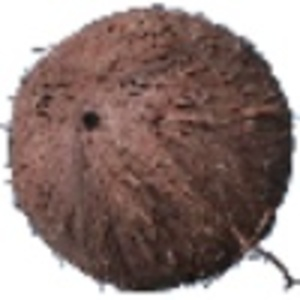coco: (1, 5, 300, 294)
